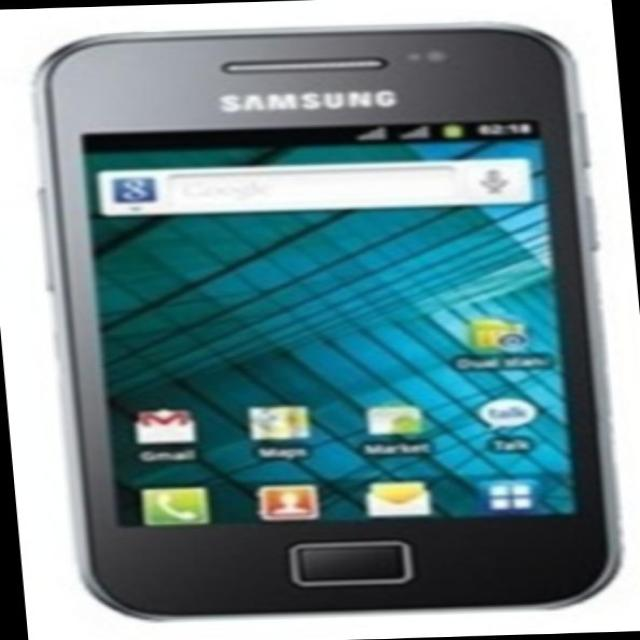handphone: (67, 30, 579, 625)
